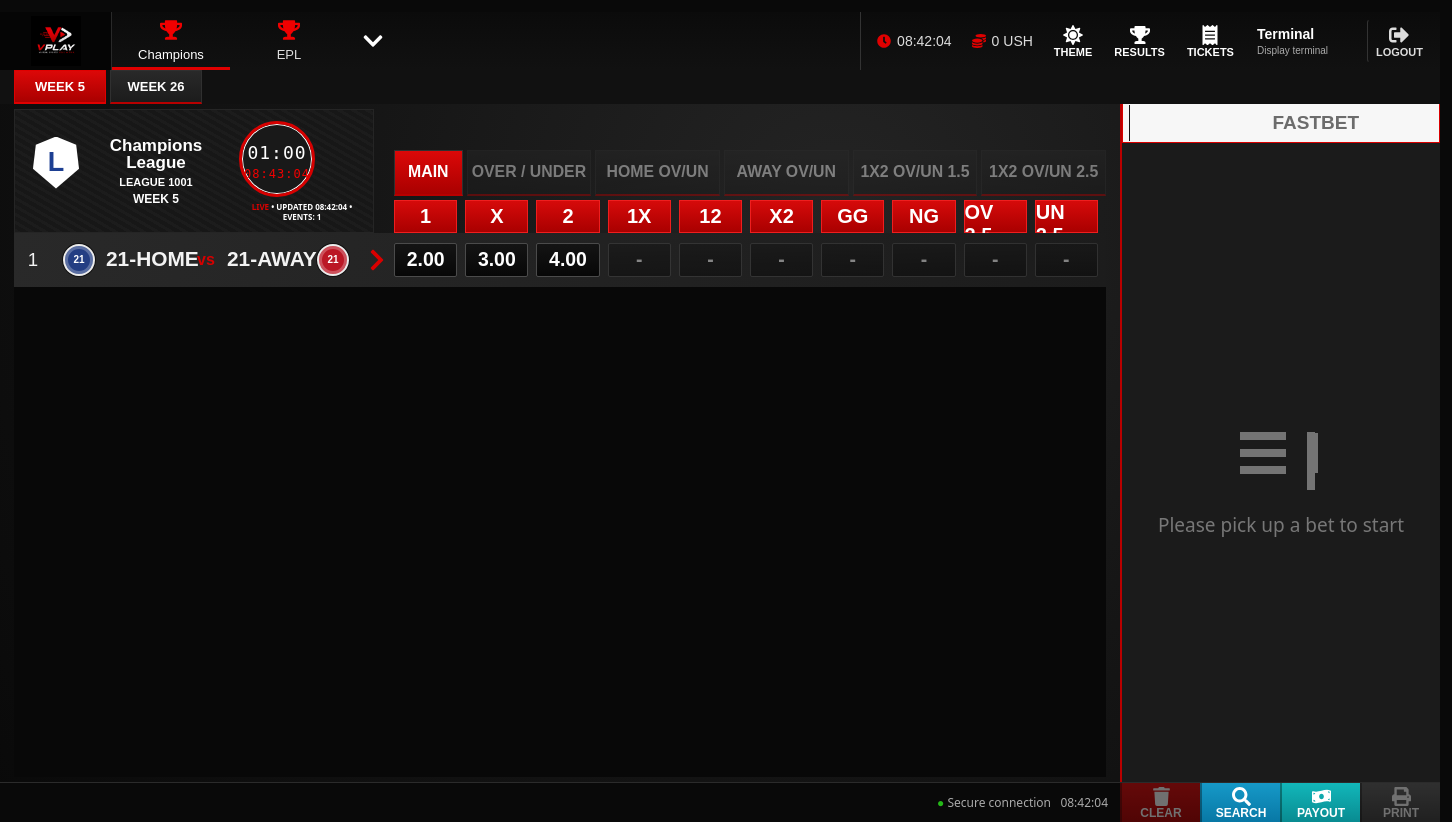
Test case: closing the selected week promotes week 26 and immediately replaces fixtures, odds, countdown and picks
Check: the text "21-HOME" is shown, box [106,249,185,270]
Step 1. Click the button with class "odd-button" showing "2.00" → (426, 260), box [394,243,457,277]
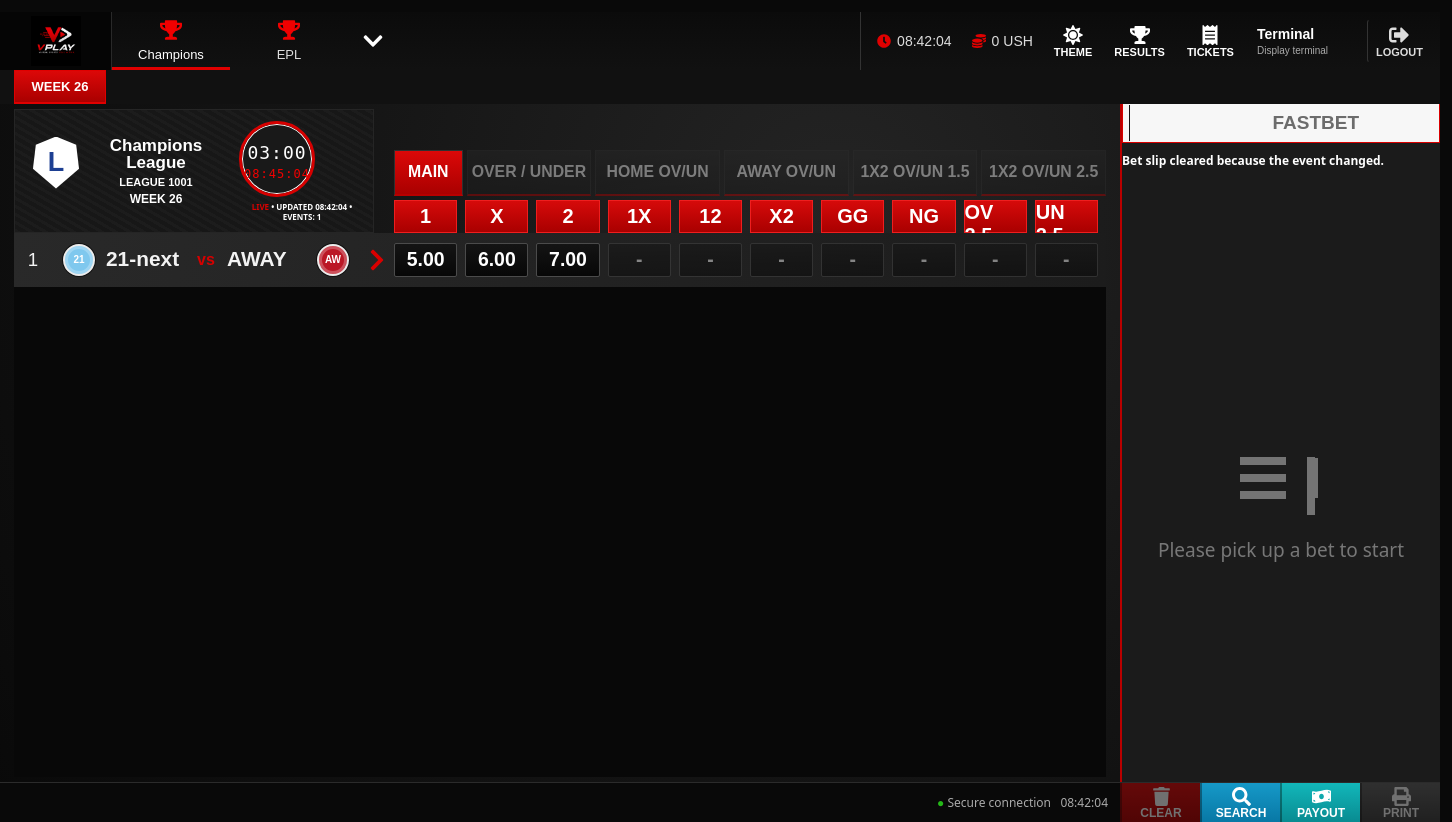
Check: the button "WEEK 5" is gone
Check: the text "21-next" is shown, box [106,249,185,270]
Check: the button with class "odd-button" reads "5.00", box [394,243,457,277]
